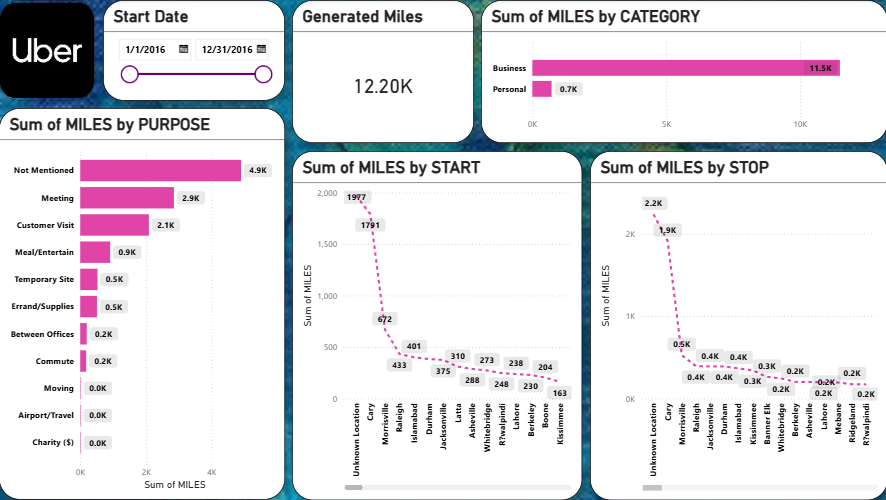

The dashboard page shown, as its layout file describes it:
{"tool":"powerbi","page":{"name":"Page 1","canvas":[1280,720],"ordinal":0},"visuals":[{"type":"image","box":[0,0,138.2,145.4],"z":0},{"type":"slicer","title":"Start Date","fields":{"Values":["UberDataset1.START_DATE"]},"box":[149.8,0,262.1,145.4],"z":1000},{"type":"barChart","fields":{"Category":["UberDataset1.PURPOSE"],"Y":["Sum(UberDataset1.MILES)"]},"box":[0,155.5,411.8,564.5],"z":2000},{"type":"card","title":"Generated Miles","fields":{"Values":["Sum(UberDataset1.MILES)"]},"box":[421.9,0,262.1,205.9],"z":3000},{"type":"barChart","fields":{"Category":["UberDataset1.CATEGORY"],"Y":["Sum(UberDataset1.MILES)"]},"box":[694.1,0,586.1,205.9],"z":4000},{"type":"lineChart","fields":{"Category":["UberDataset1.START"],"Y":["Sum(UberDataset1.MILES)"]},"box":[421.9,217.4,417.6,502.6],"z":5000},{"type":"lineChart","fields":{"Category":["UberDataset1.STOP"],"Y":["Sum(UberDataset1.MILES)"]},"box":[851,217.4,429.1,502.6],"z":5001}]}

Visuals, with their boxes in screenshot pixels (x1, y1, x2, y2), scaled from the page's 1280x720 canvas onto the 886x500 screenshot:
image: (0, 0, 96, 101)
"Start Date" slicer: (104, 0, 285, 101)
barChart - UberDataset1.PURPOSE x Sum(UberDataset1.MILES): (0, 108, 285, 499)
"Generated Miles" card: (292, 0, 473, 143)
barChart - UberDataset1.CATEGORY x Sum(UberDataset1.MILES): (480, 0, 885, 143)
lineChart - UberDataset1.START x Sum(UberDataset1.MILES): (292, 151, 581, 499)
lineChart - UberDataset1.STOP x Sum(UberDataset1.MILES): (589, 151, 885, 499)
